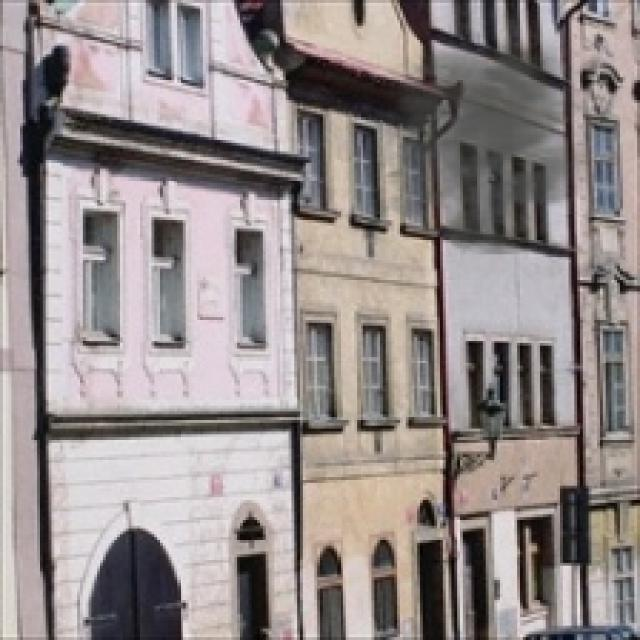smoke: (357, 32, 589, 255)
